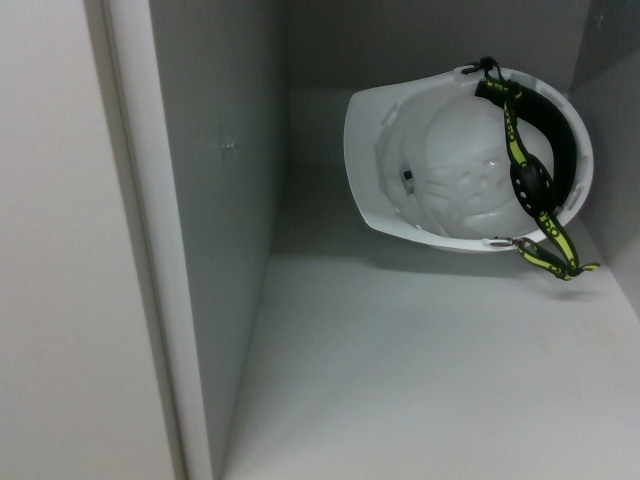helmet: (339, 56, 603, 258)
